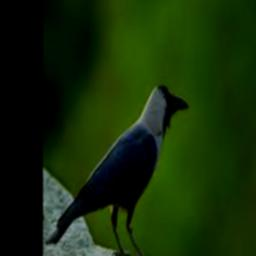Crow: (47, 86, 190, 256)
